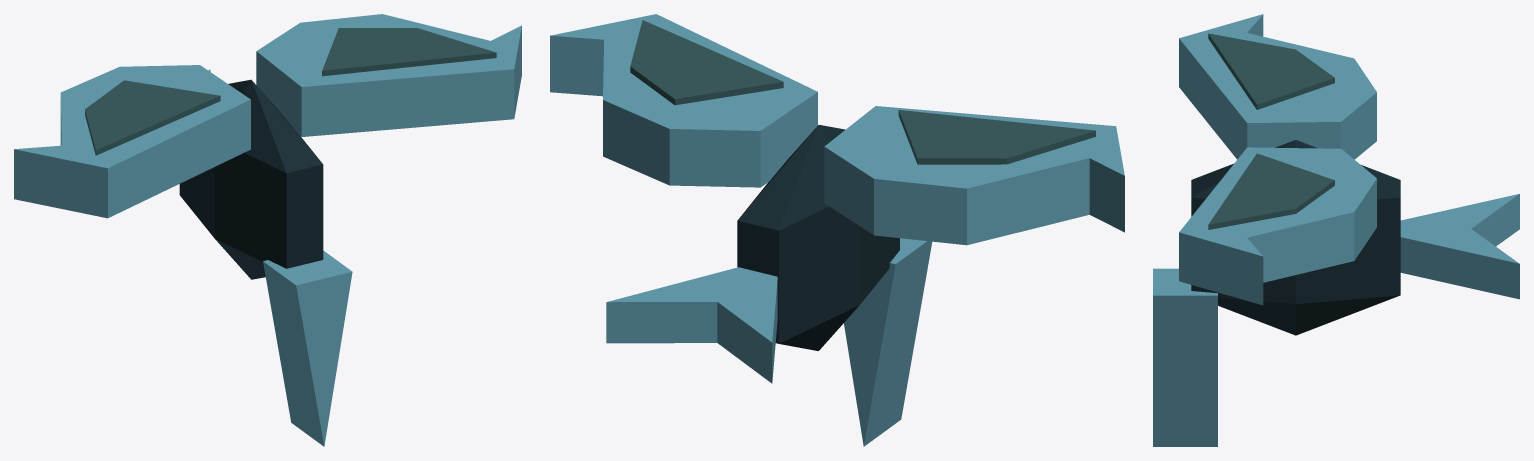
Rendered from volt.glb.
The picture shows the model from 3 angles, left to right: view 1: azimuth 30°, elevation 25°; view 2: azimuth 150°, elevation 25°; view 3: azimuth 270°, elevation 25°; orthographic projection. The views are drawn at different scales.
Parts seen in each view (by area): view 1: body, wing_r, wing_l; view 2: body, wing_l, wing_r; view 3: body, wing_r, wing_l.
Boxes of the visible parts, x1,y1,x2,y2 form: body: (179,69,352,446); wing_r: (256,14,521,136); wing_l: (14,65,250,218); body: (606,125,932,446); wing_l: (824,106,1124,245); wing_r: (550,14,817,187); body: (1153,140,1519,446); wing_r: (1179,147,1376,305); wing_l: (1179,14,1376,159).
Size of the model in its own units: 1.8 by 1.1 by 1.15.
